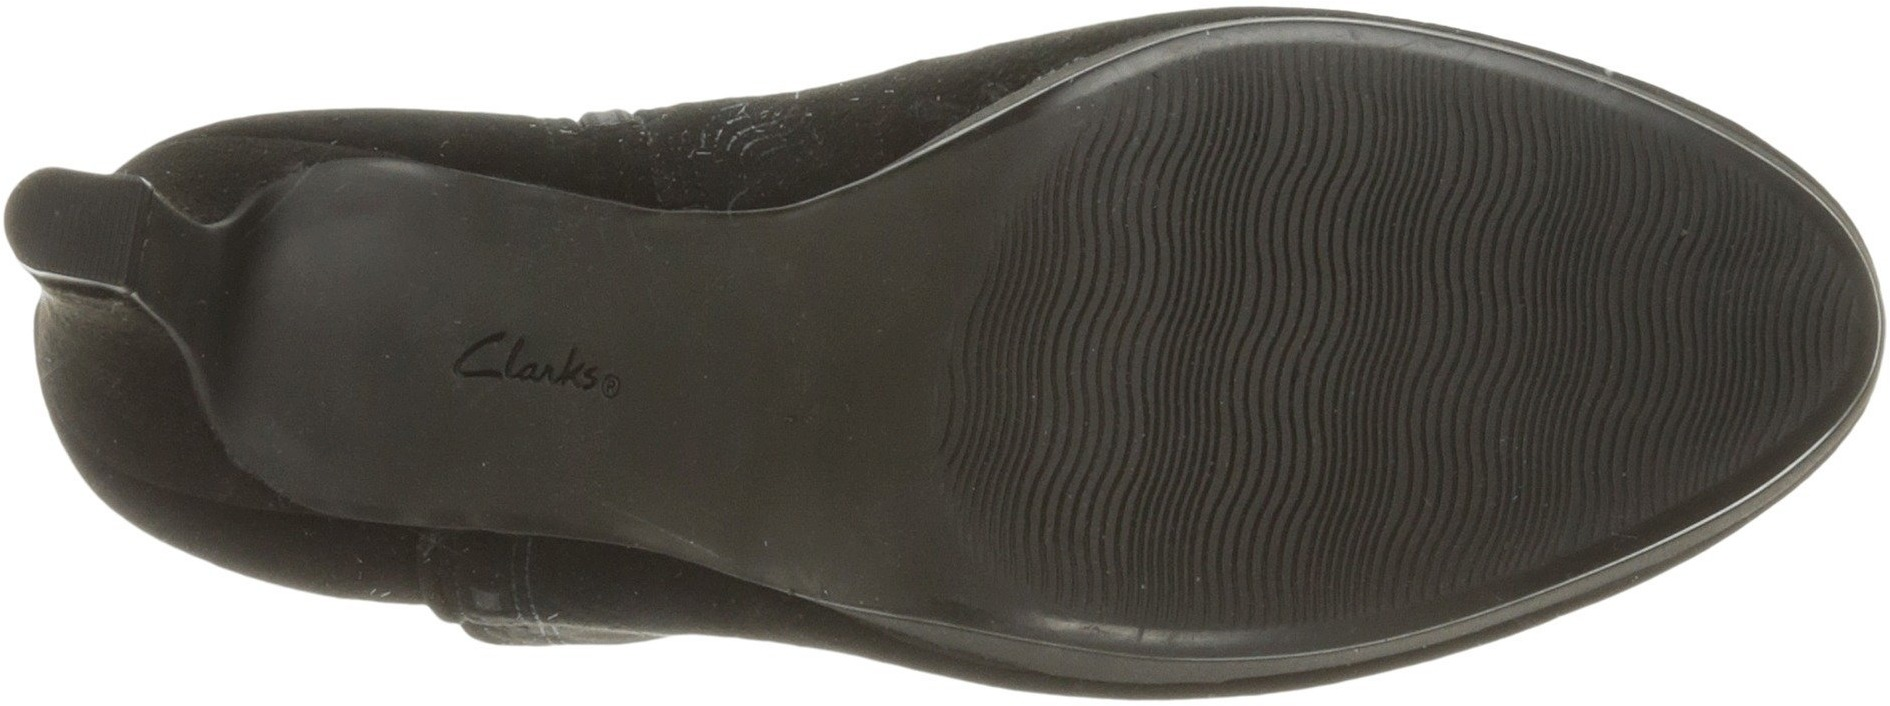chevron: (1317, 93, 1649, 419), (1060, 161, 1325, 440), (1235, 445, 1411, 610)
exclude: (20, 4, 802, 698)
line: (1317, 93, 1649, 419), (1060, 161, 1325, 440), (1235, 445, 1411, 610)
other: (35, 176, 123, 266)
